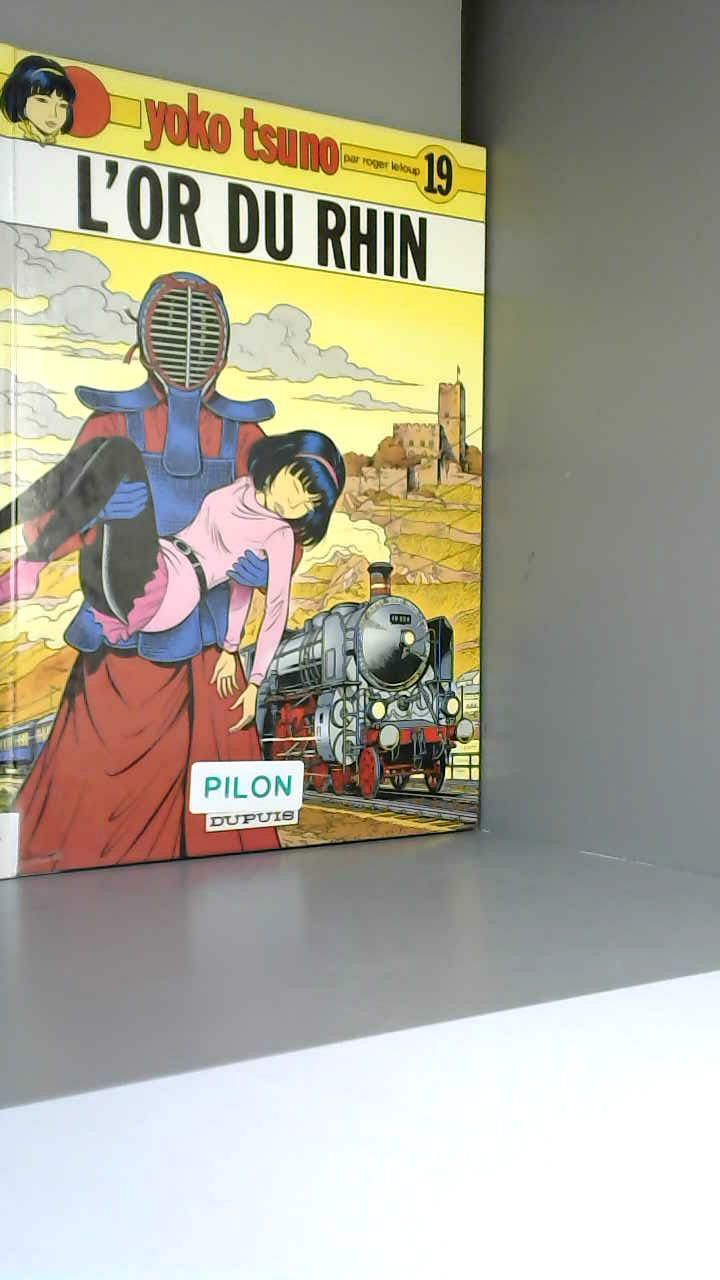book: (0, 25, 509, 910)
